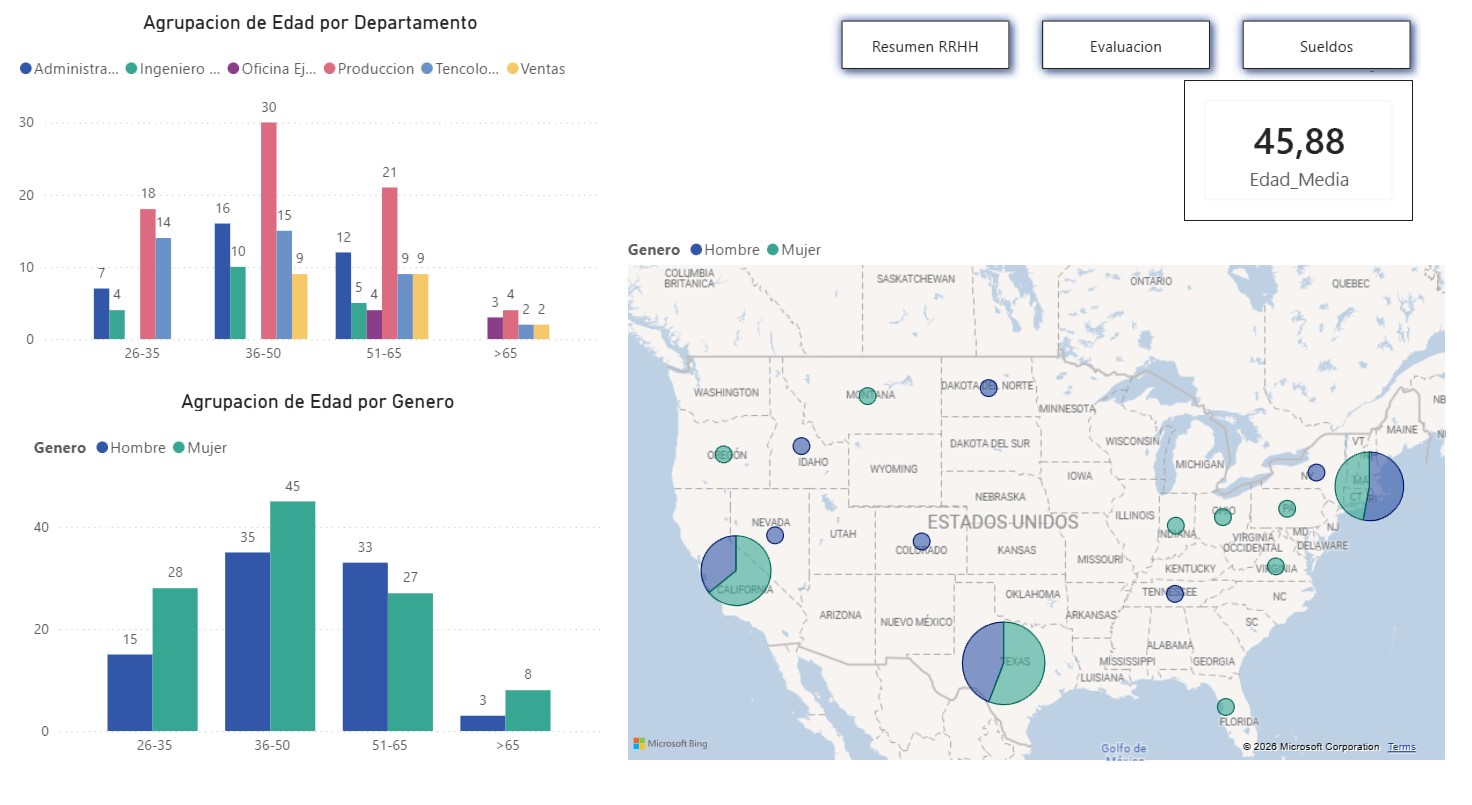

The dashboard page shown, as its layout file describes it:
{"tool":"powerbi","page":{"name":"Demografia","canvas":[1280,720],"ordinal":3},"visuals":[{"type":"clusteredColumnChart","title":"Agrupacion de Edad por Genero","fields":{"Category":["Tabla1_2.Edad_Grupo"],"Y":["Tabla1_2.Empleados"],"Series":["Tabla1_2.Genero"]},"box":[31.7,346.8,499.7,325.4],"z":0},{"type":"map","fields":{"Category":["Tabla1_2.Estado"],"Series":["Tabla1_2.Genero"],"Size":["Tabla1_2.Empleados"]},"box":[544.4,206,715,466.1],"z":1000},{"type":"cardVisual","fields":{"Data":["MEDIDAS.Edad_Media"]},"box":[1029,80.2,197.5,121.6],"z":2000},{"type":"clusteredColumnChart","title":"Agrupacion de Edad por Departamento","fields":{"Category":["Tabla1_2.Edad_Grupo"],"Y":["Tabla1_2.Empleados"],"Series":["Tabla1_2.Departamento"]},"box":[18.6,19.6,512.7,314.2],"z":3000},{"type":"pageNavigator","box":[724.6,19.6,509,60.6],"z":4000}]}

Visuals, with their boxes in screenshot pixels (x1, y1, x2, y2), scaled from the page's 1280x720 canvas onto the 1472x805 screenshot:
"Agrupacion de Edad por Genero" clusteredColumnChart: x1=36, y1=388, x2=611, y2=752
map - Tabla1_2.Estado x Tabla1_2.Genero: x1=626, y1=230, x2=1448, y2=751
cardVisual - MEDIDAS.Edad_Media: x1=1183, y1=90, x2=1410, y2=226
"Agrupacion de Edad por Departamento" clusteredColumnChart: x1=21, y1=22, x2=611, y2=373
pageNavigator: x1=833, y1=22, x2=1419, y2=90
